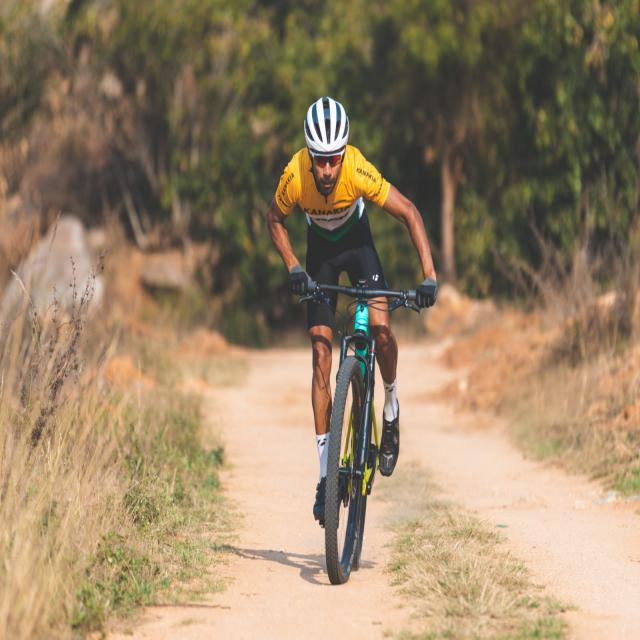bicycle: (266, 97, 438, 583)
